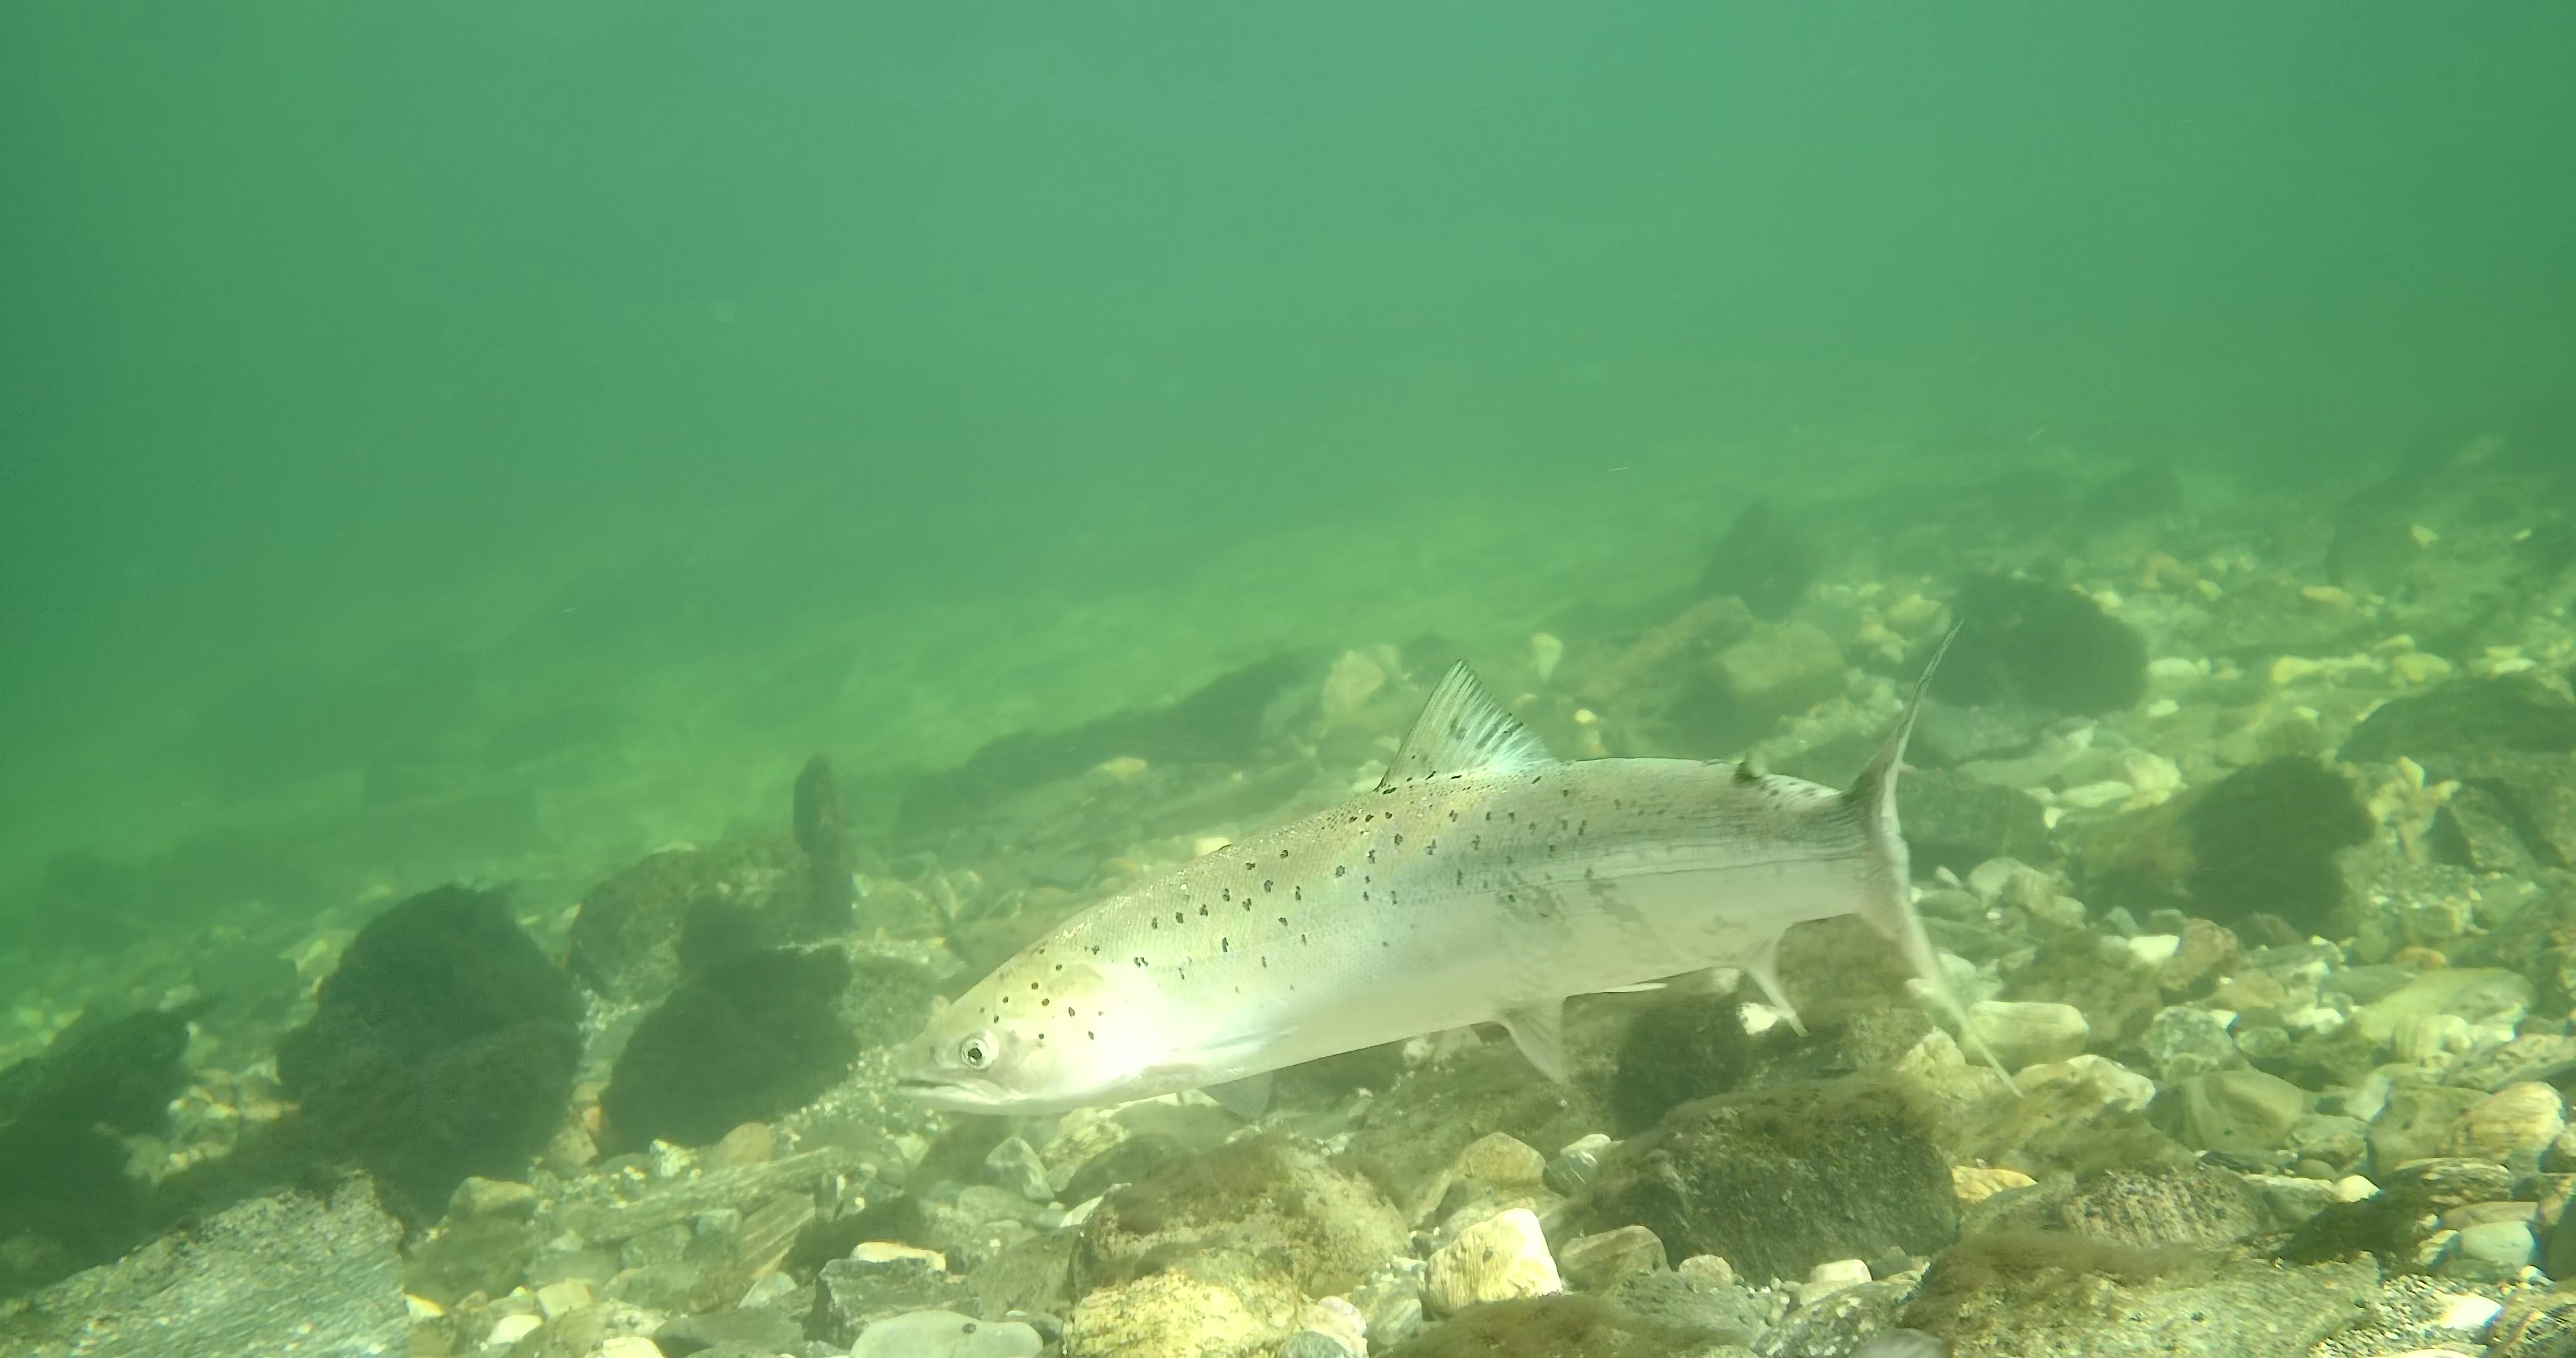salmon: (889, 622, 2031, 1119)
